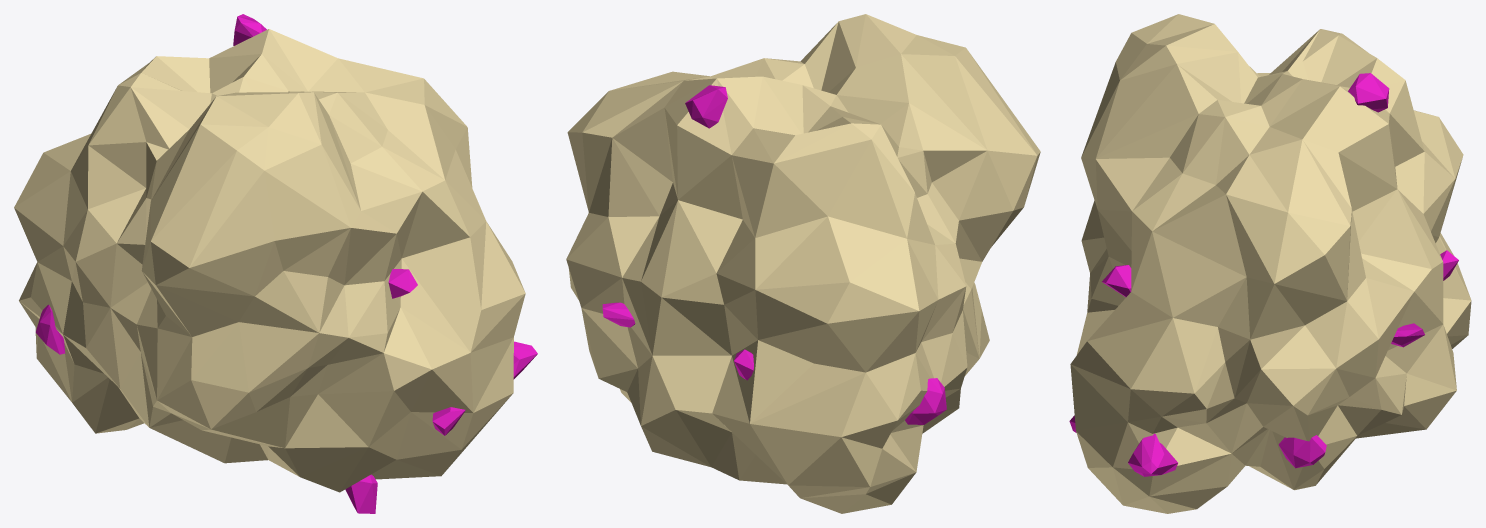
File: CrystalOre (64).fbx
The picture shows the model from 3 angles, left to right: view 1: azimuth 30°, elevation 25°; view 2: azimuth 150°, elevation 25°; view 3: azimuth 270°, elevation 25°; orthographic projection. The views are drawn at different scales.
Parts seen in each view (by area): view 1: Asteroid284; view 2: Asteroid284; view 3: Asteroid284.
Boxes of the visible parts, left/top/right/bottom form: Asteroid284: left=14, top=14, right=537, bottom=513; Asteroid284: left=566, top=14, right=1040, bottom=513; Asteroid284: left=1069, top=14, right=1471, bottom=513.
Bounding box in the file's own units: 379 × 384 × 328.
